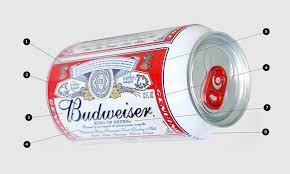metal: (5, 24, 270, 148)
